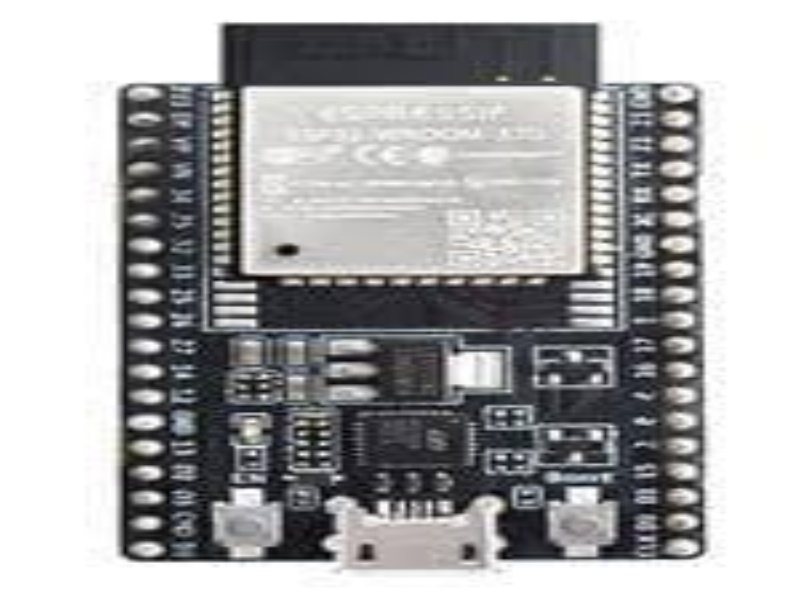esp32: (104, 27, 727, 566)
